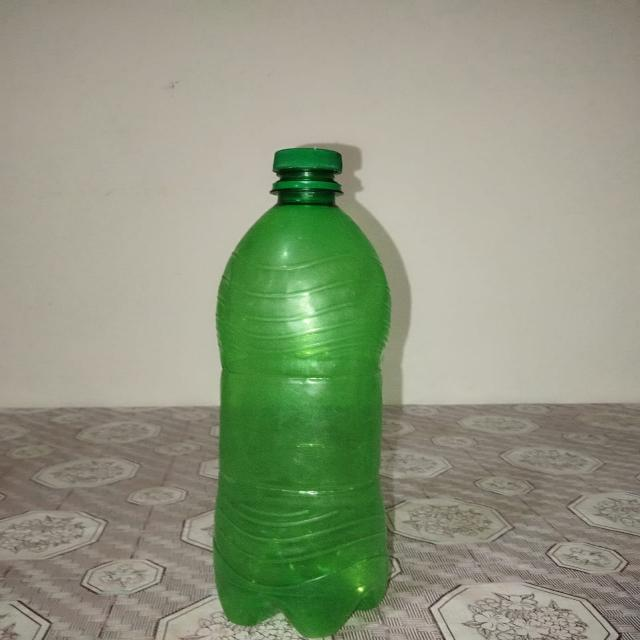bottle: (212, 151, 395, 639)
cap: (271, 149, 345, 191)
